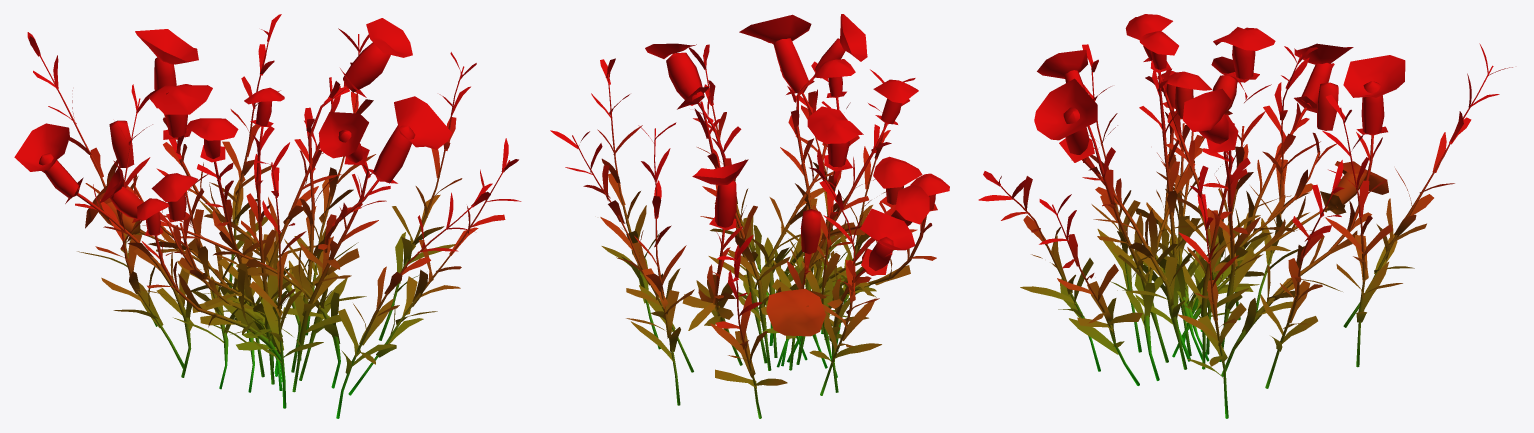
The model's file is Var8_LOD1.fbx.
3 renders of one model, left to right at view 1: azimuth 30°, elevation 25°; view 2: azimuth 150°, elevation 25°; view 3: azimuth 270°, elevation 25°, orthographic. The views are drawn at different scales.
Visible parts, largest first — view 1: _bwxl_Var8_LOD1; view 2: _bwxl_Var8_LOD1; view 3: _bwxl_Var8_LOD1.
Part boxes in pixels (x1,y1,x2,y2): _bwxl_Var8_LOD1: (14,14,521,418); _bwxl_Var8_LOD1: (550,14,949,418); _bwxl_Var8_LOD1: (978,14,1512,418).
Size of the model in its own units: 36.24 by 28.81 by 43.31.
